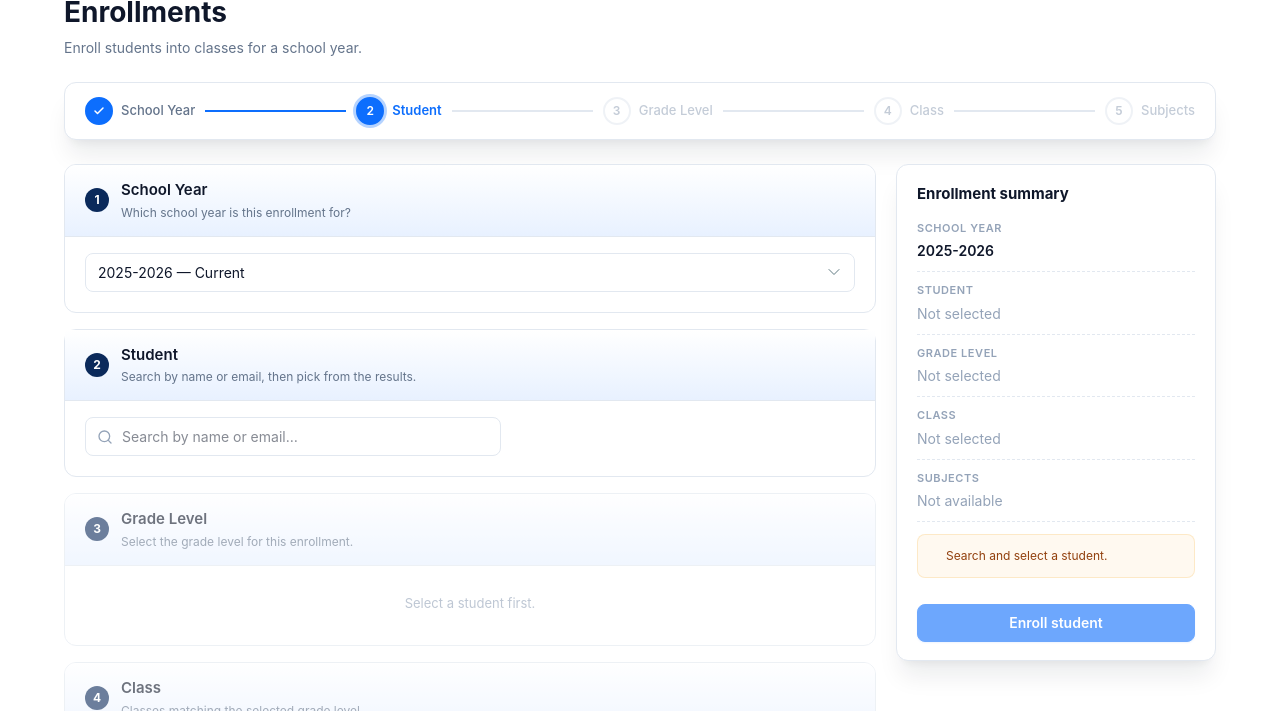
it: ManageEnrollments page › changes an enrollment status and removes an enrollment
Expected: the heading "School Year" is shown, [121,180,208,199]
Type "Alice" into the field with placeholder "Search by name or email…" at (293, 436), box [85,417,501,456]
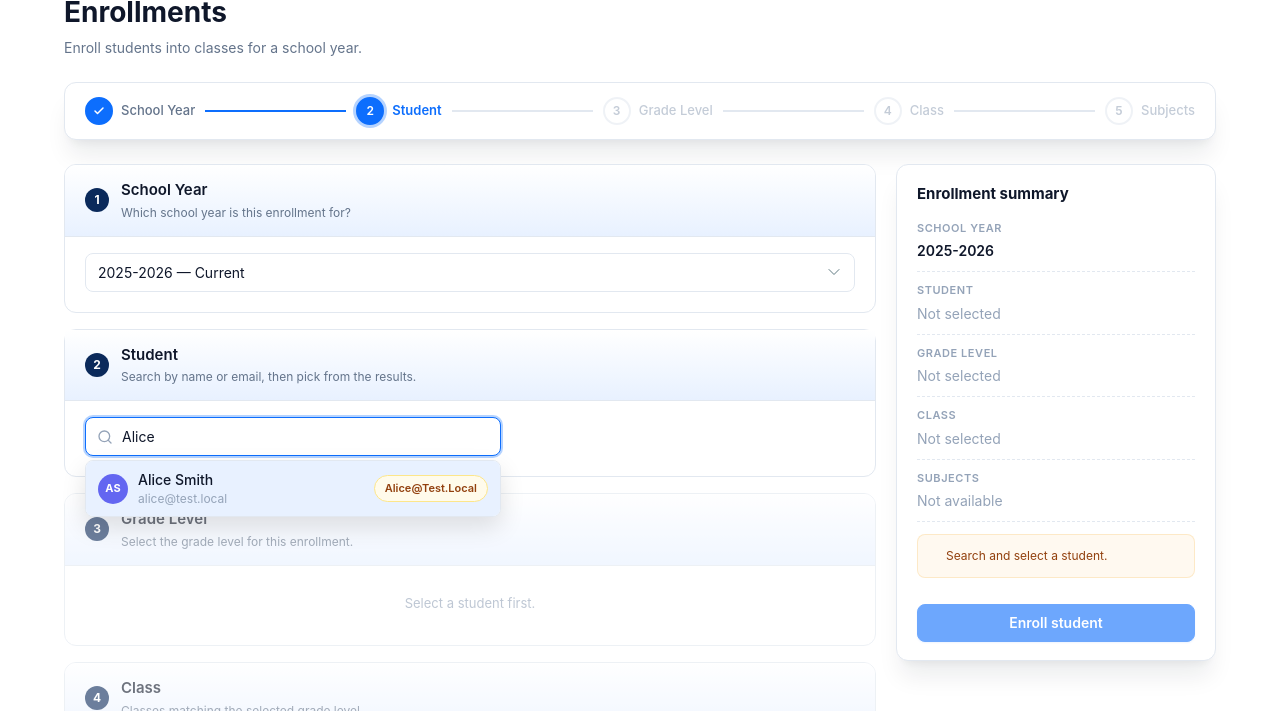
Click the text "Alice Smith" at (176, 480), box [138,471,213,488]
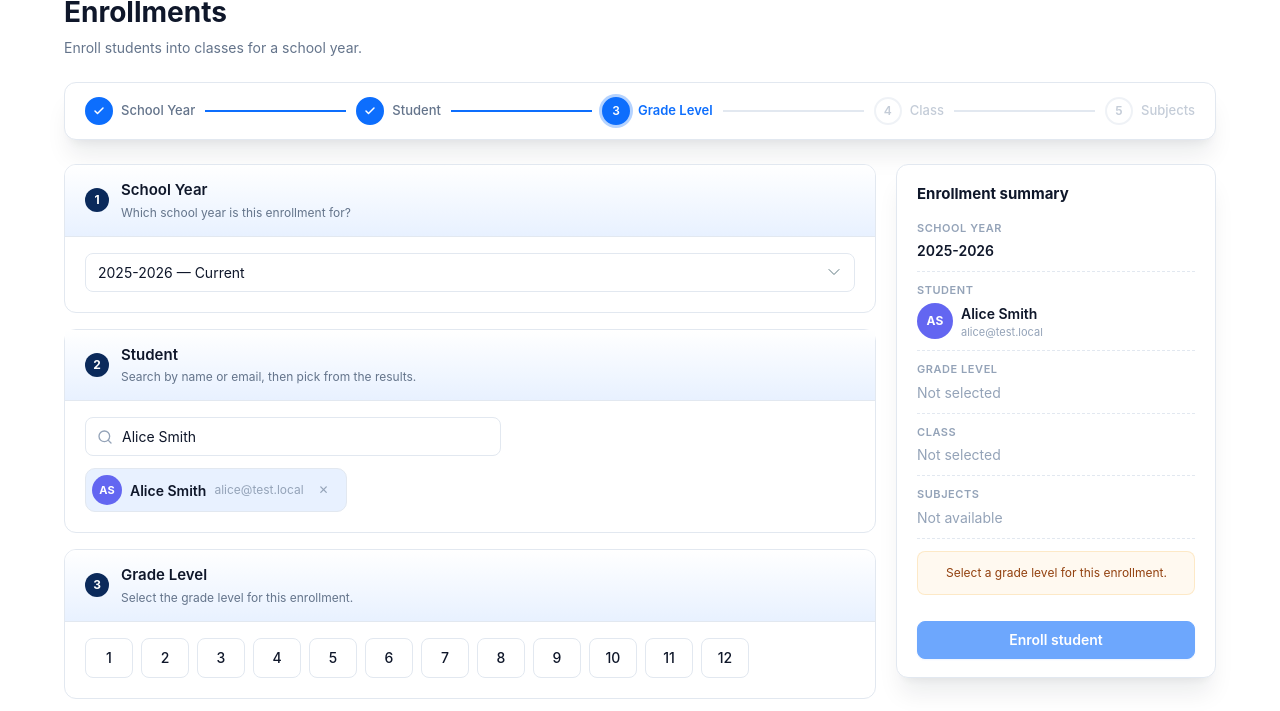
Click the button "1" at (109, 658), box [85,638,133,678]
(page scrolled)
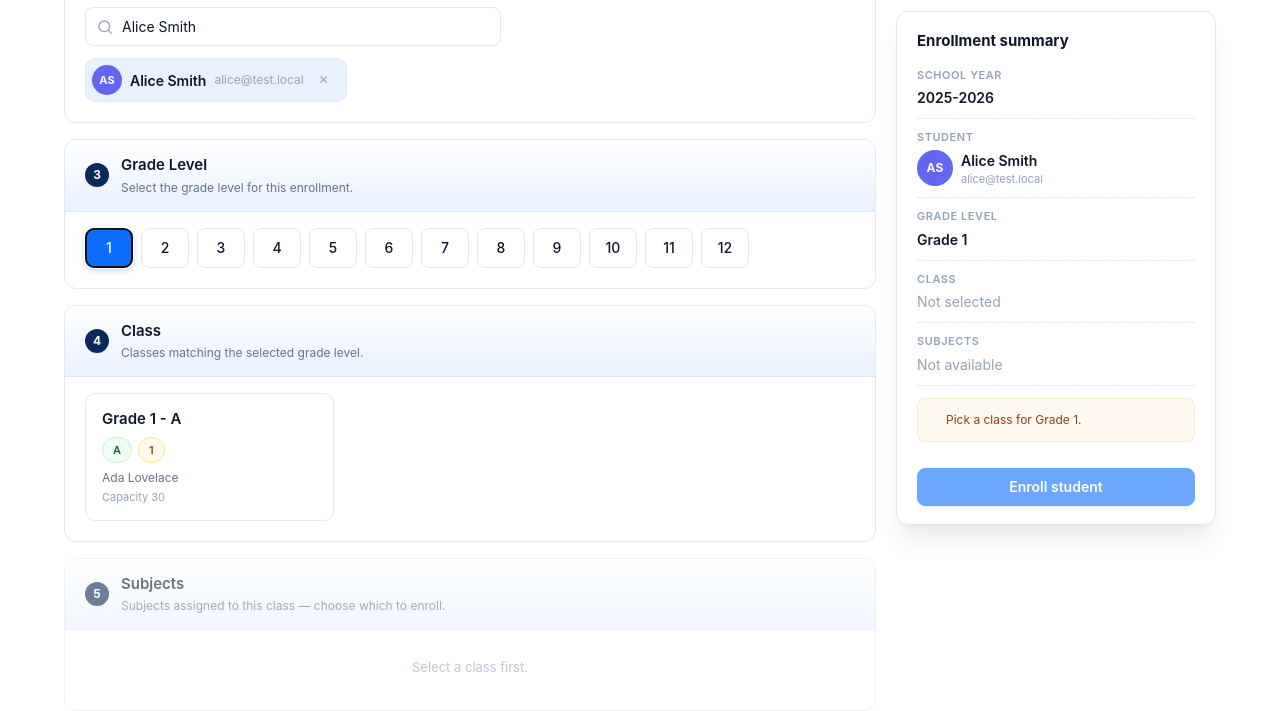
Click the button "Grade 1 - A A 1 Ada Lovelace Capacity 30" at (209, 457), box [85,393,334,520]
(page scrolled)
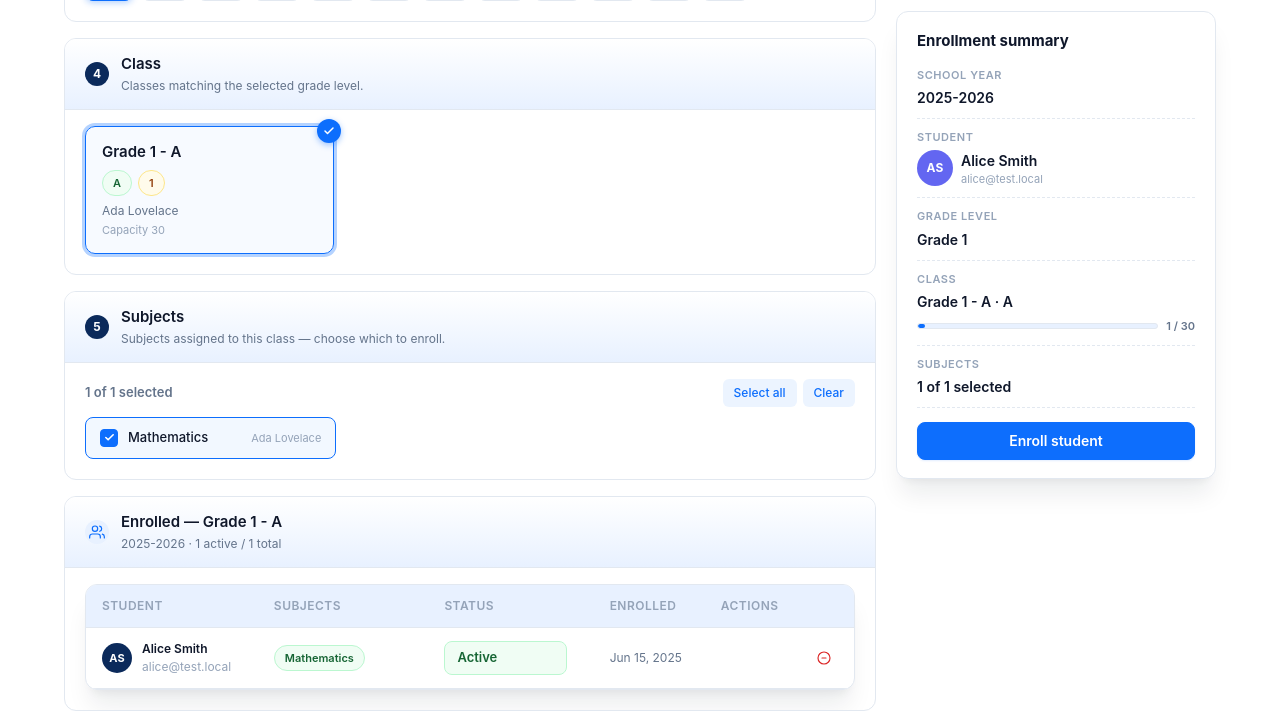
Now the checkbox is checked, box [85,417,336,458]
Select "Dropped" in the dropdown at (506, 658), box [444,641,567,675]
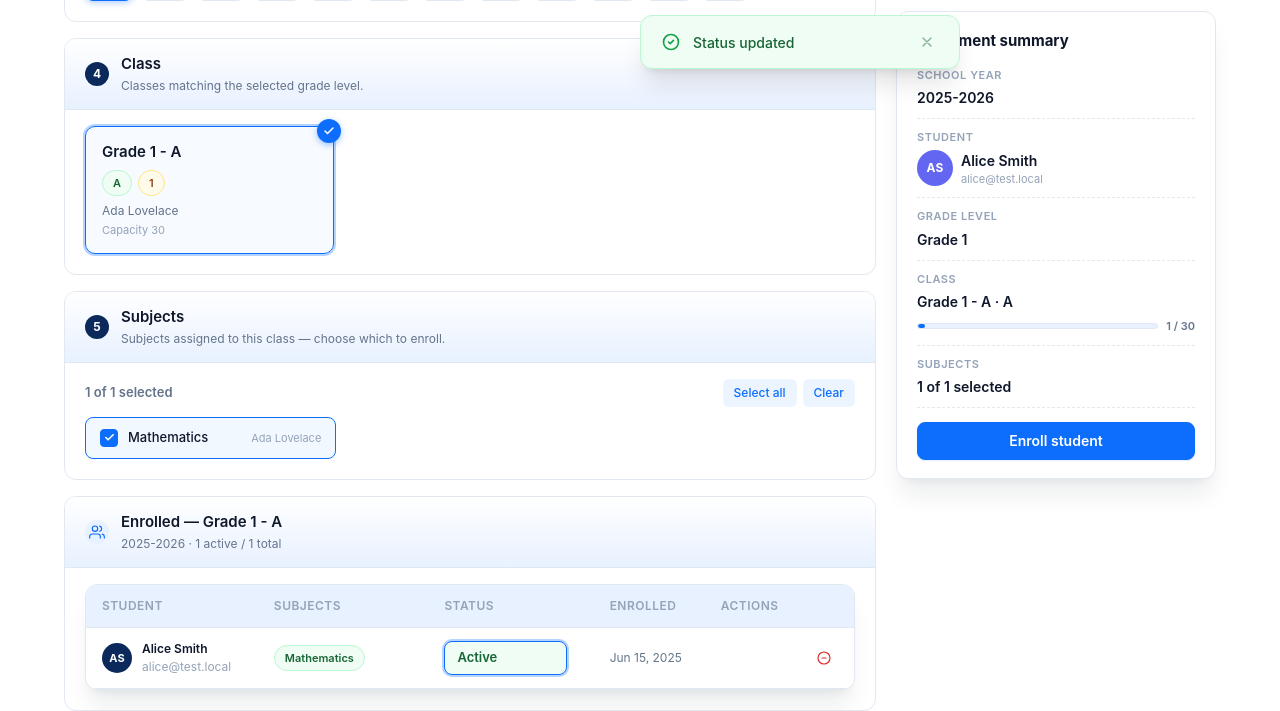
Now the text "Status updated" is shown, box [693,34,794,50]
Click the button named "Remove from class" at (824, 658), box [810,644,838,672]
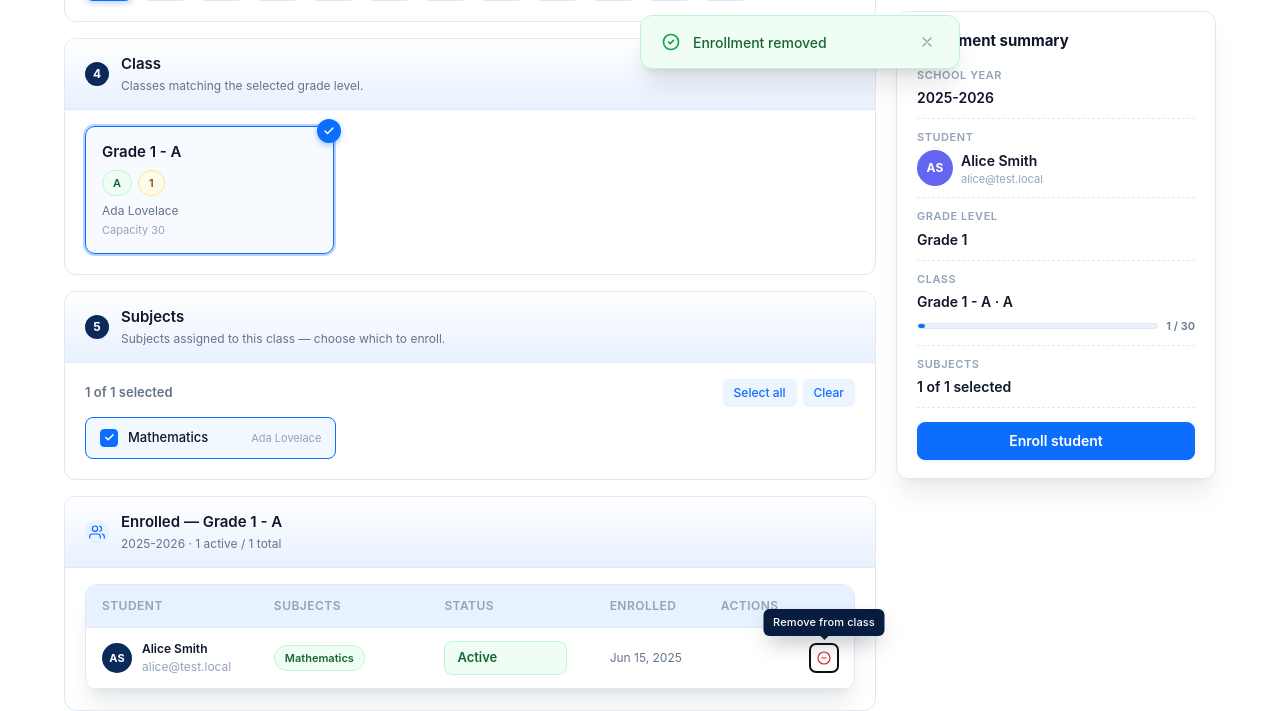
Now the text "Enrollment removed" is shown, box [693,34,827,50]
